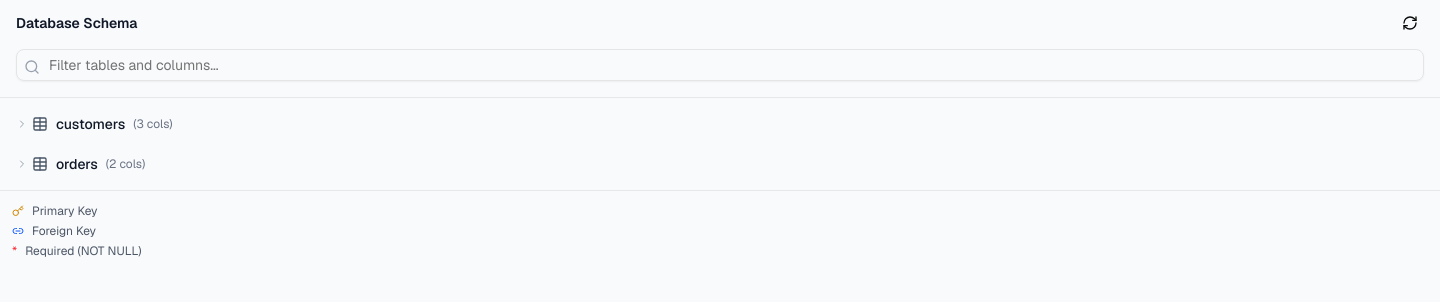
SchemaBrowser › shows "No tables found" when search returns no results
Expected: the text "customers" is shown, 56,114 -> 125,134
Note: Search for something that doesn't exist
In the field with placeholder "Filter tables and columns...": (720, 65) 16,49 -> 1424,81, type "nonexistent"
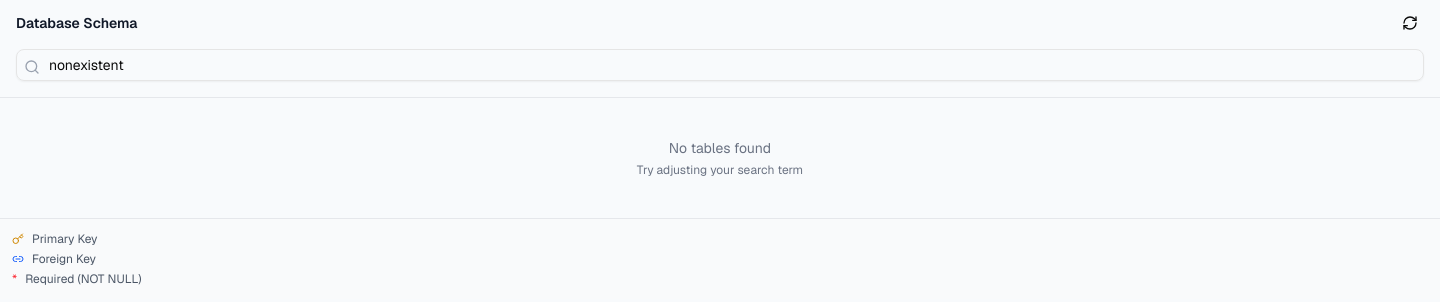
Now the text "No tables found" is shown, box 669,139 -> 771,157
Now the text "Try adjusting your search term" is shown, box 637,162 -> 803,178
